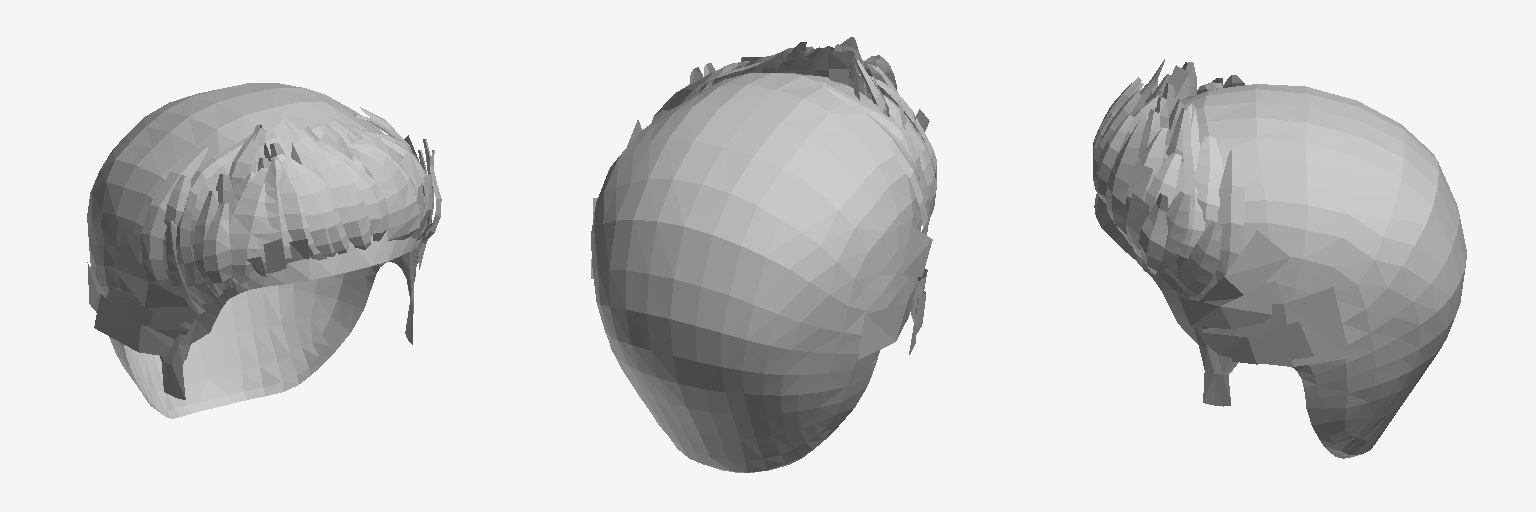
File: hair.obj
The picture shows the model from 3 angles: view 1: azimuth 30°, elevation 25°; view 2: azimuth 150°, elevation 25°; view 3: azimuth 270°, elevation 25°; orthographic projection.
Visible parts, largest first — view 1: Male_HairC.001_Male_HairC; view 2: Male_HairC.001_Male_HairC; view 3: Male_HairC.001_Male_HairC.
Part boxes in pixels (x1,y1,x2,y2): Male_HairC.001_Male_HairC: (87, 83, 441, 418); Male_HairC.001_Male_HairC: (591, 37, 936, 472); Male_HairC.001_Male_HairC: (1093, 59, 1466, 458).
Size of the model in its own units: 896 by 1025 by 947.